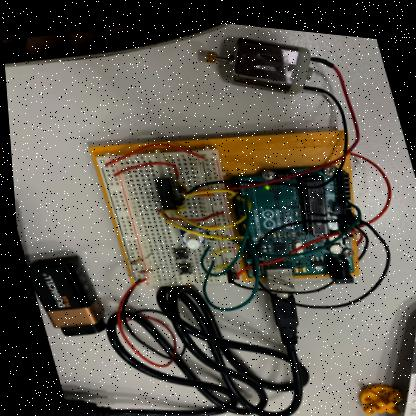5V: (229, 217, 355, 270), (347, 140, 395, 223)
ARDUINO: (229, 153, 352, 275)
Battery: (19, 246, 188, 366)
Breadboard: (93, 143, 239, 284)
Button: (169, 244, 184, 256), (173, 259, 188, 270)
DC Motor: (169, 27, 369, 198)
GND: (259, 206, 396, 306), (240, 208, 369, 289)
H Bridge: (151, 174, 173, 206)
Long wire: (199, 186, 362, 252), (197, 220, 257, 309), (193, 189, 247, 273), (168, 188, 255, 226), (153, 205, 252, 236), (101, 139, 202, 163), (150, 203, 222, 218), (110, 158, 176, 174), (179, 183, 233, 196)
Potentiometer: (181, 229, 197, 245)
Resistor: (125, 255, 139, 262), (134, 266, 149, 271)
Short wire: (207, 243, 224, 250), (210, 258, 226, 265), (205, 229, 223, 232), (193, 189, 209, 192), (193, 185, 209, 188), (202, 219, 214, 223)
